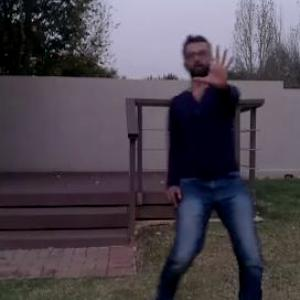follow_hand: (192, 42, 236, 88)
